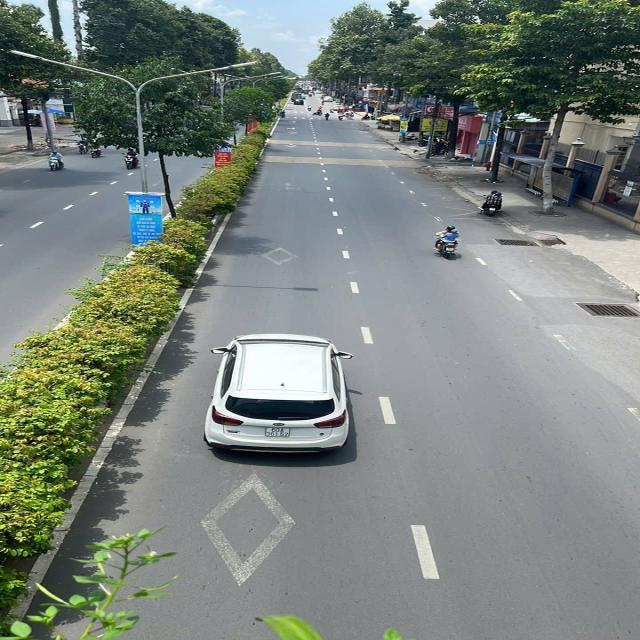Bicycle: (325, 114, 329, 120)
Truck: (292, 93, 302, 103)
car: (201, 332, 364, 462), (339, 107, 349, 113), (332, 105, 344, 110), (323, 96, 332, 102)
motobyte: (435, 227, 457, 259), (44, 150, 65, 173), (482, 192, 501, 215), (126, 147, 140, 170), (78, 137, 88, 156), (90, 142, 100, 159), (339, 114, 343, 120), (308, 105, 311, 112), (319, 106, 322, 110), (322, 101, 324, 105)
